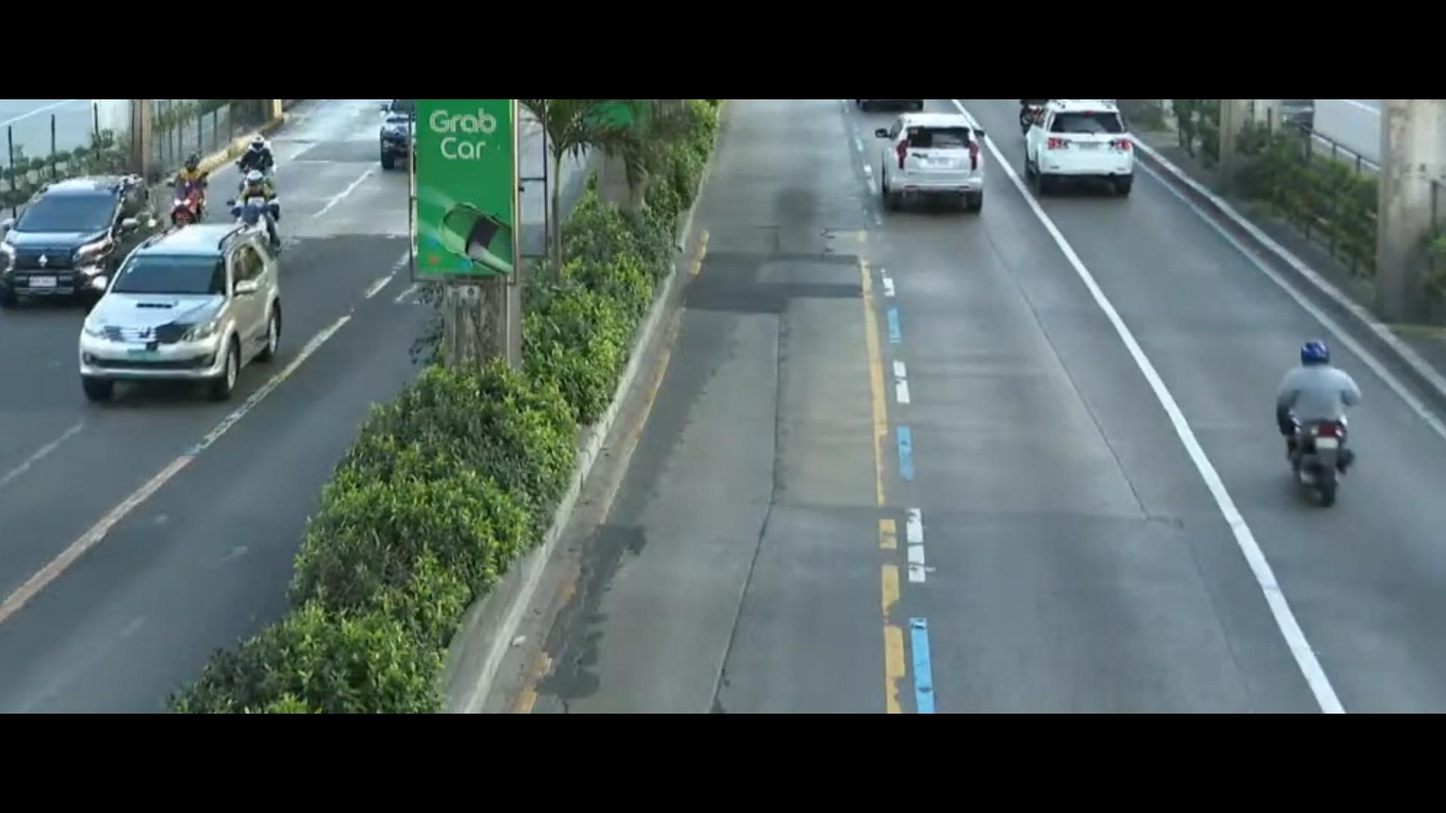Motorcycle: (1249, 330, 1420, 511), (110, 170, 176, 252), (238, 158, 300, 235), (164, 147, 212, 233), (233, 126, 294, 184)
SUV: (61, 217, 305, 405), (0, 170, 164, 324), (862, 108, 1006, 211), (1025, 96, 1149, 194), (364, 104, 406, 175)
